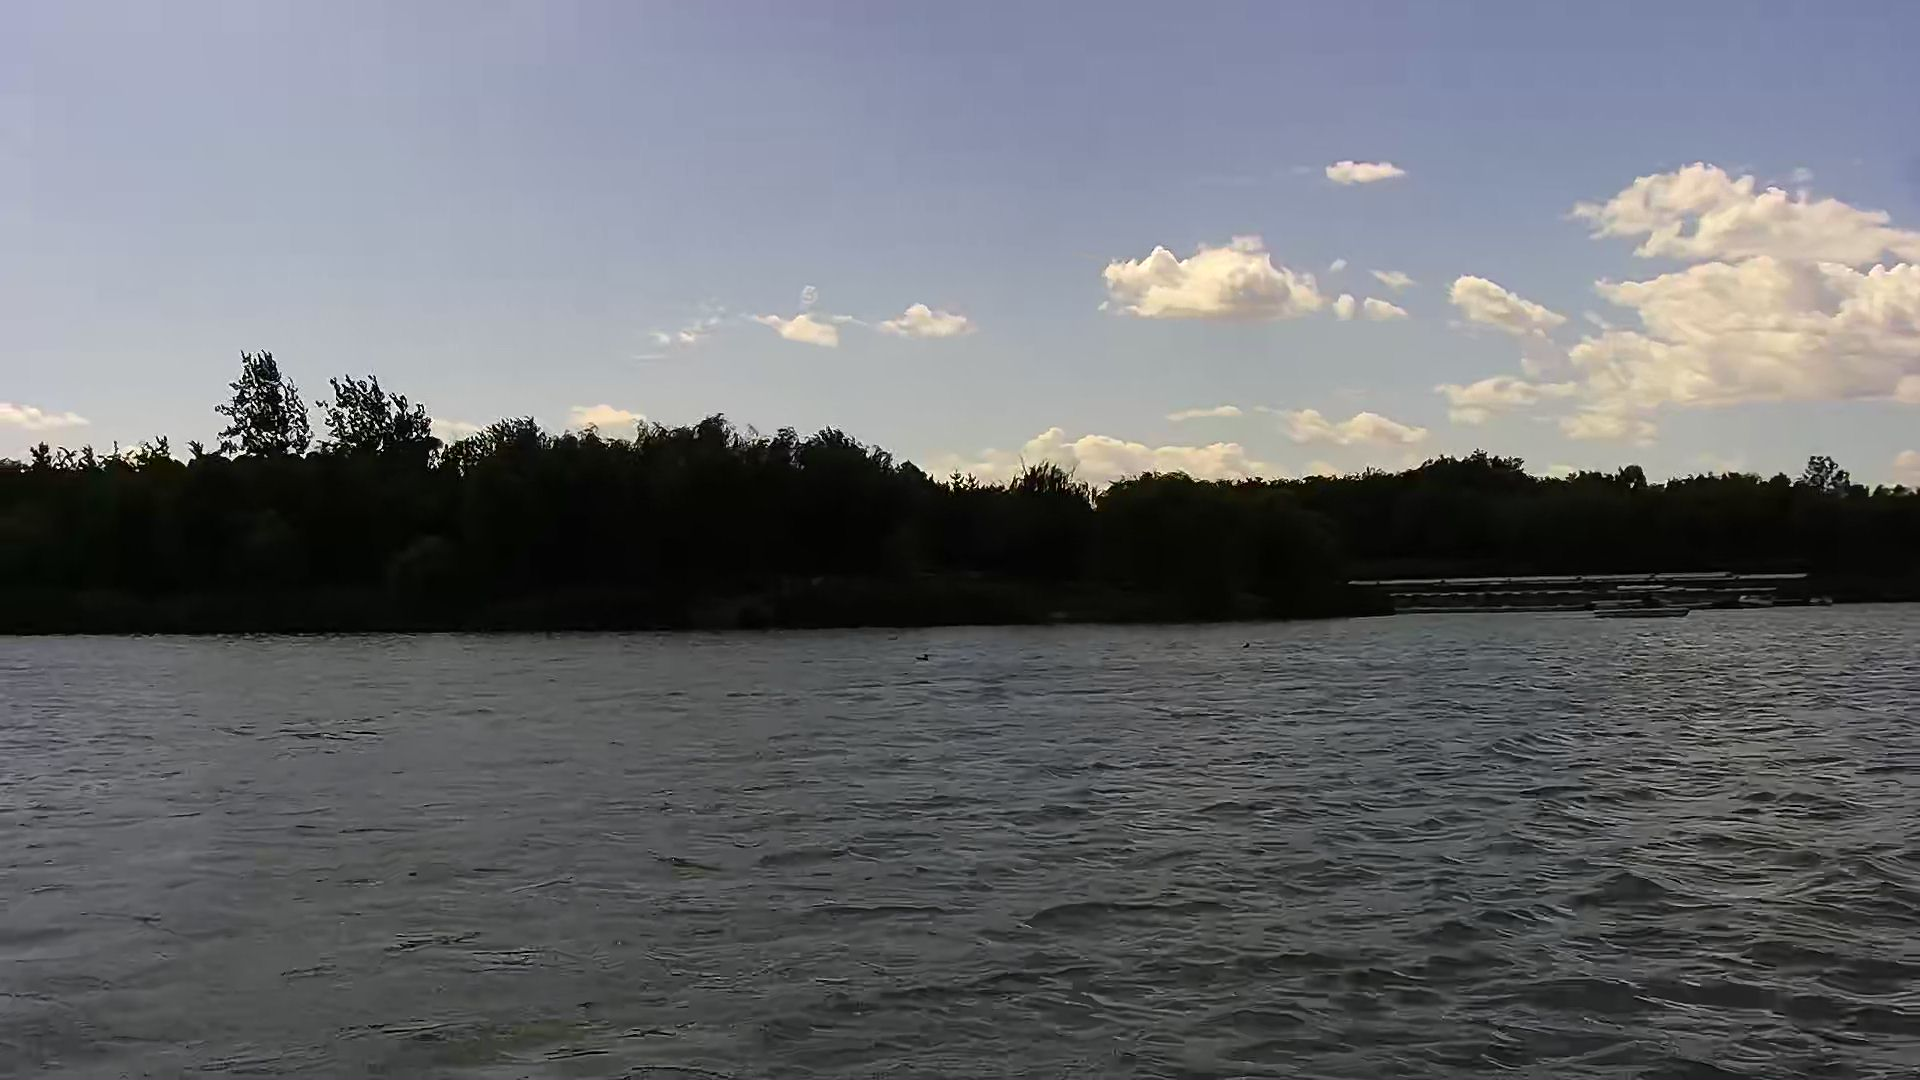boat: (1582, 585, 1698, 621)
harbor: (1353, 571, 1824, 622)
